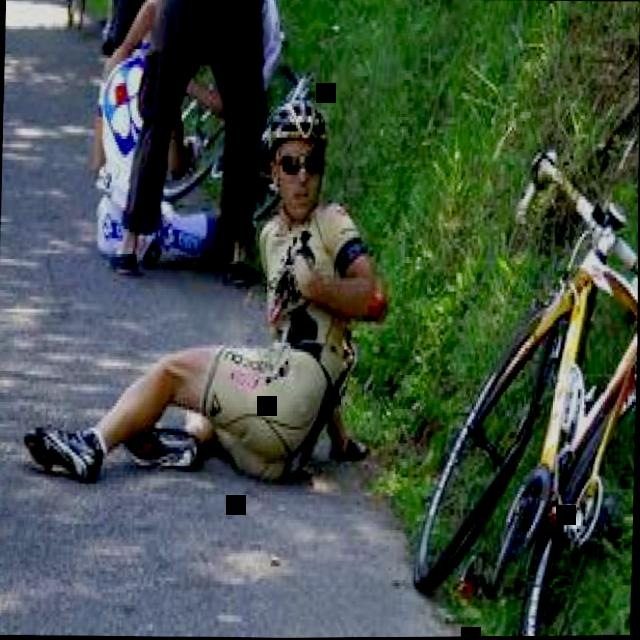Fall-Detected: (88, 0, 294, 284)
